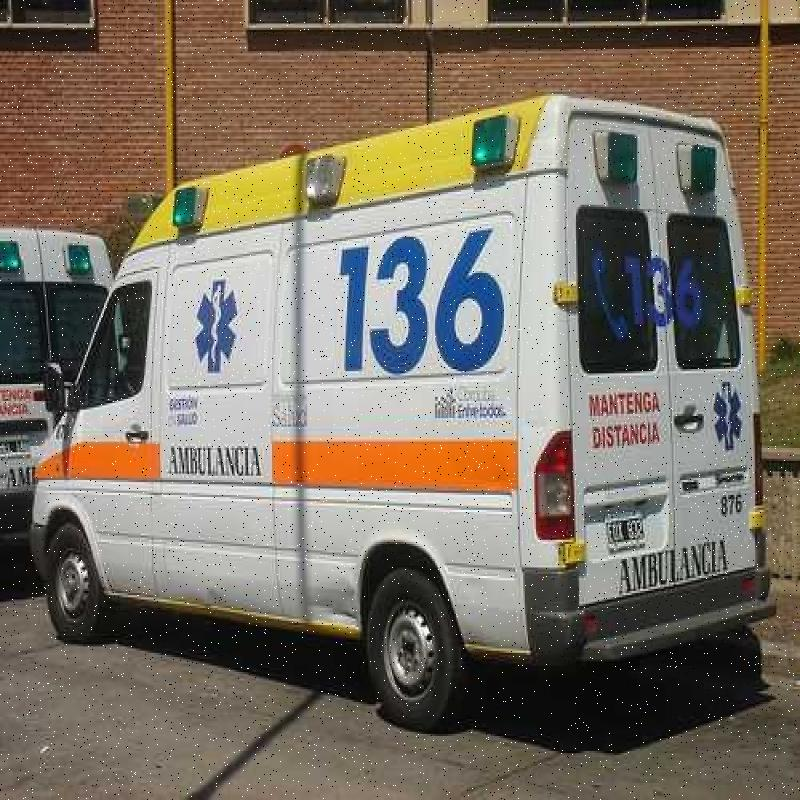AmbulanceSiren: (590, 100, 727, 205), (462, 93, 528, 197), (300, 141, 366, 232), (163, 166, 219, 264)
